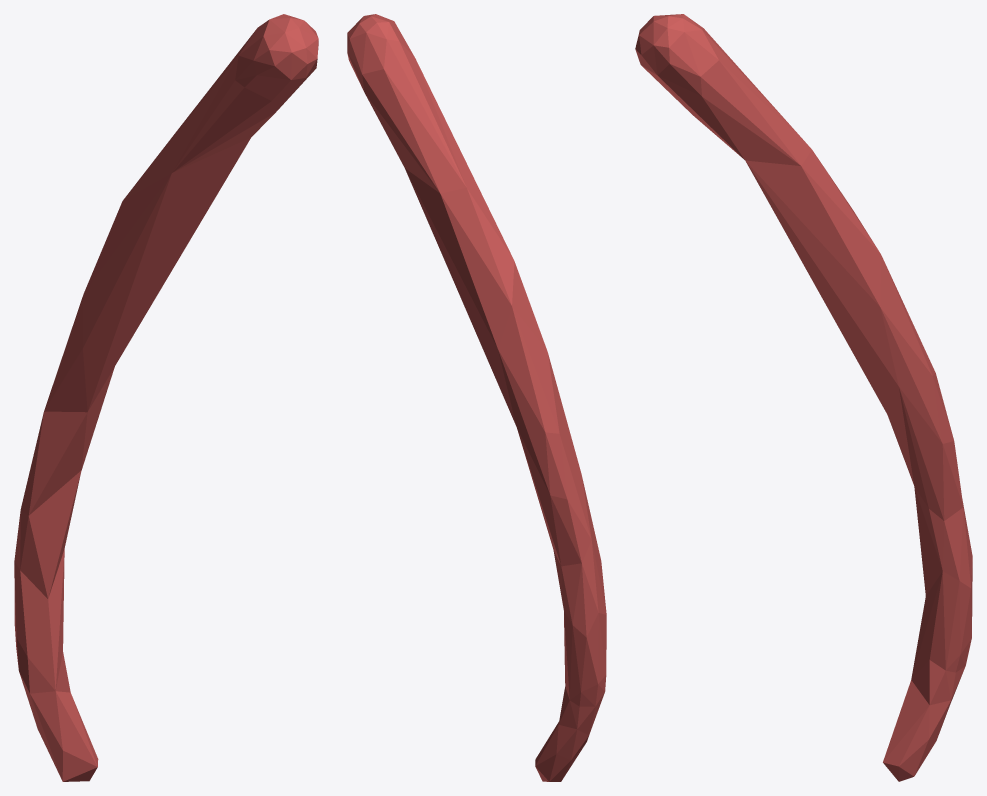
The picture shows the model from 3 angles, left to right: view 1: azimuth 30°, elevation 25°; view 2: azimuth 210°, elevation 25°; view 3: azimuth 270°, elevation 25°; orthographic projection. The views are drawn at different scales.
Visible parts, largest first — view 1: FJ2654; view 2: FJ2654; view 3: FJ2654.
Boxes of the visible parts, bbox=[...] form: FJ2654: bbox=[14, 14, 318, 781]; FJ2654: bbox=[347, 14, 606, 781]; FJ2654: bbox=[635, 14, 972, 781].
Size of the model in its own units: 2.32 by 11.55 by 4.39.
